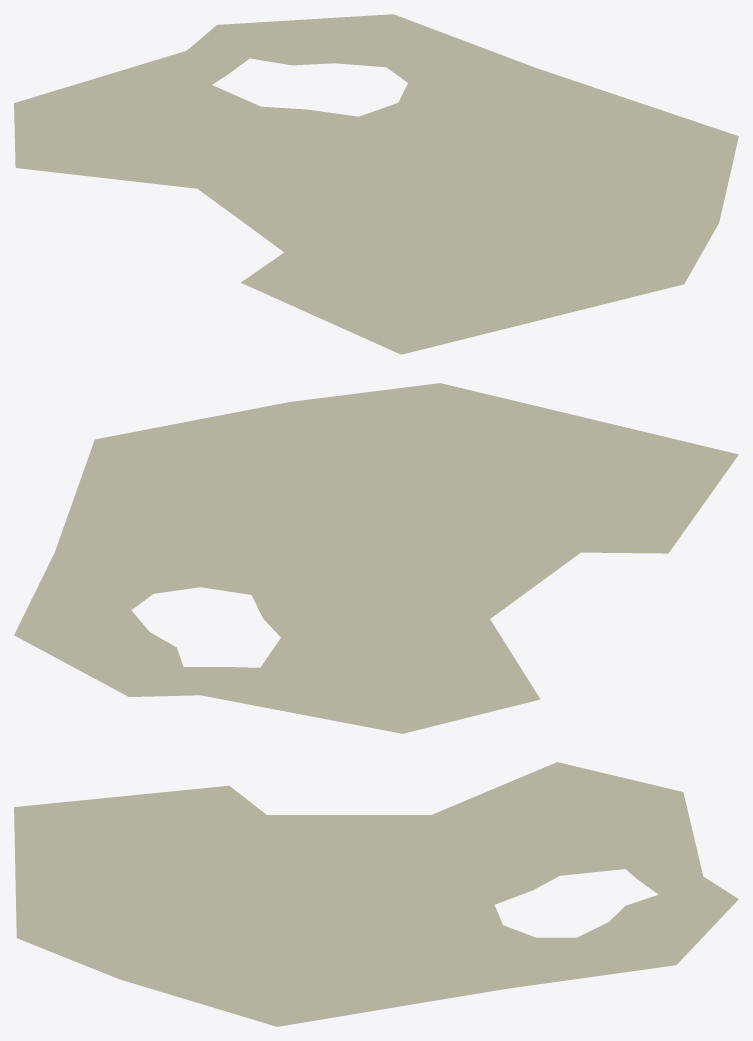
Rendered from floor.fbx.
3 views of the same model, one above another, from view 1: azimuth 30°, elevation 25°; view 2: azimuth 150°, elevation 25°; view 3: azimuth 270°, elevation 25° (orthographic). The views are drawn at different scales.
Visible parts, largest first — view 1: polySurface1; view 2: polySurface1; view 3: polySurface1.
Part boxes in pixels (bbox=[...]): polySurface1: bbox=[14, 14, 738, 354]; polySurface1: bbox=[14, 383, 738, 733]; polySurface1: bbox=[14, 762, 738, 1026].
Size of the model in its own units: 1.33 by 1.35e-07 by 1.53.
